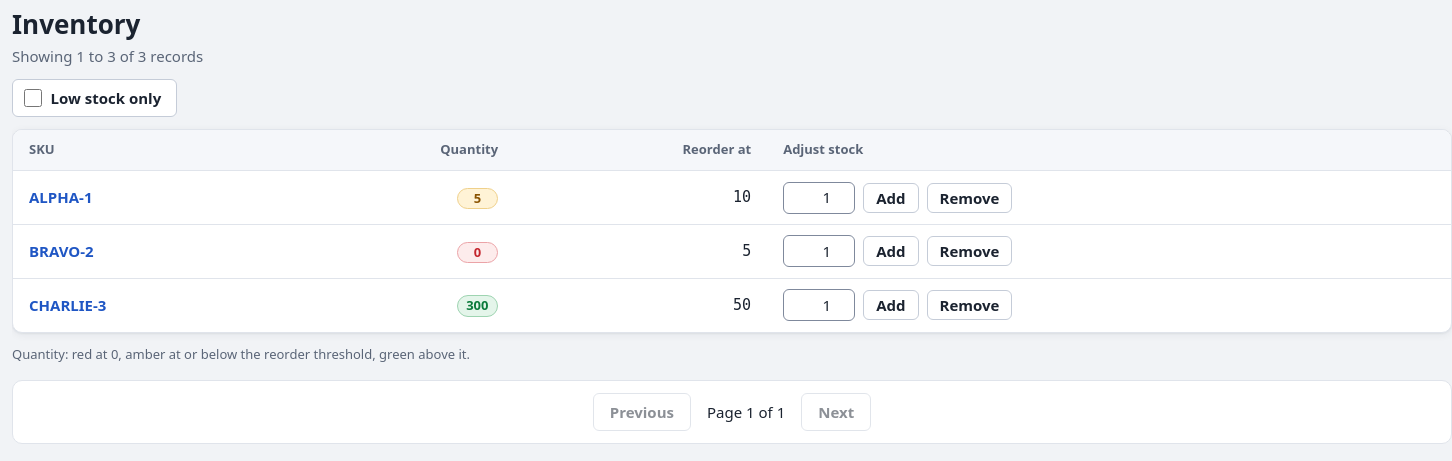
Scenario: Inventory page › Low stock only › lists only the low stock items from the low stock endpoint when it is turned on
Check: the button "CHARLIE-3" is shown, box [29,294,106,316]
Click the checkbox labelled "Low stock only".
click(33, 98)  # box [24,89,42,107]
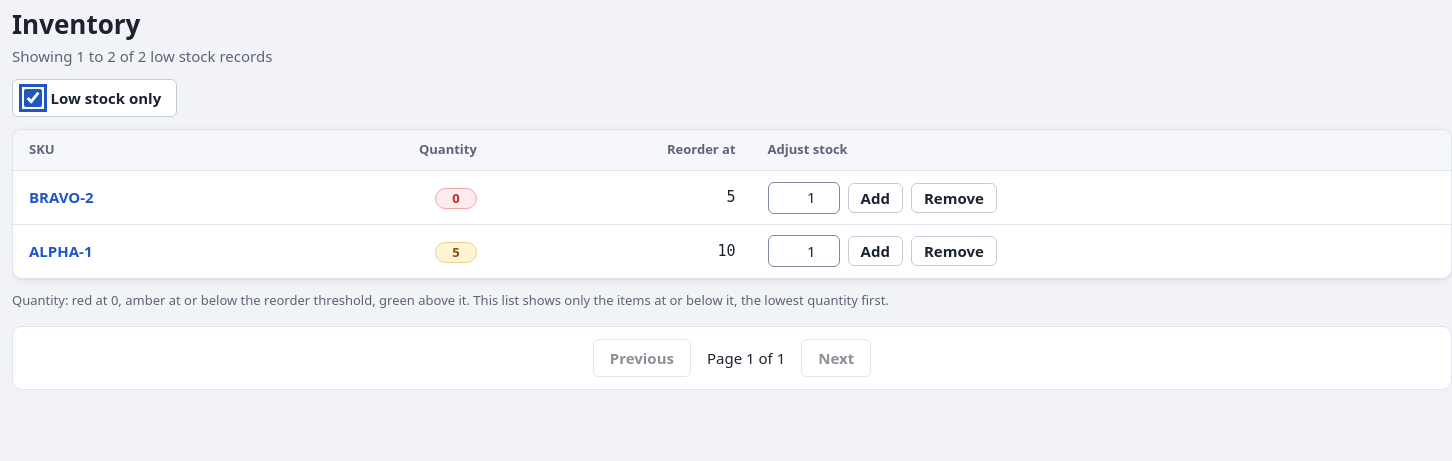
Check: the checkbox labelled "Low stock only" is checked, box [24,89,42,107]
Check: the text "Showing 1 to 2 of 2 low stock records" is shown, box [12,46,272,66]
Check: the button "CHARLIE-3" is gone
